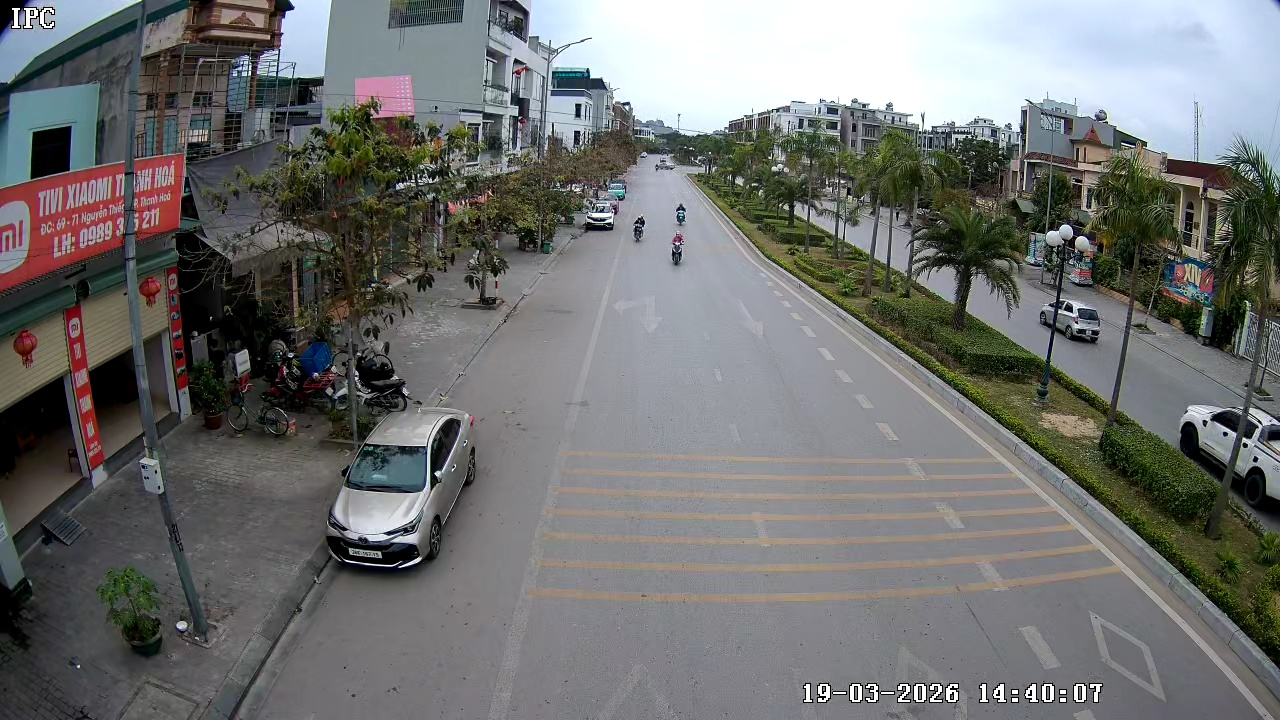bus: (547, 54, 609, 94)
car: (326, 405, 478, 572), (1040, 298, 1102, 343), (583, 197, 619, 231)
motorbike: (350, 326, 420, 414), (669, 229, 686, 268), (631, 211, 647, 243), (673, 200, 688, 227)
